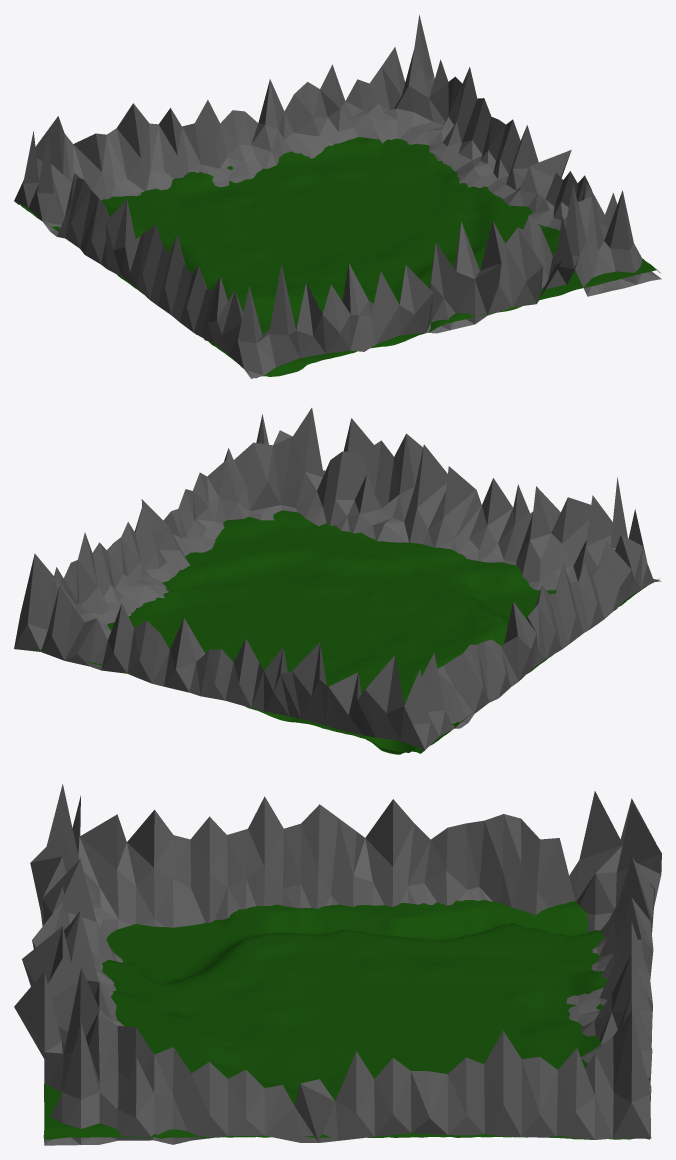
The model's file is camp_landscape_w_Mountains.glb.
3 views of the same model, one above another, from view 1: azimuth 30°, elevation 25°; view 2: azimuth 150°, elevation 25°; view 3: azimuth 270°, elevation 25° (orthographic). The views are drawn at different scales.
Visible parts, largest first — view 1: Plane.001, Plane; view 2: Plane.001, Plane; view 3: Plane.001, Plane.
Boxes of the visible parts, x1=… form: Plane.001: x1=14, y1=15, x2=661, y2=378; Plane: x1=14, y1=124, x2=660, y2=378; Plane.001: x1=14, y1=408, x2=661, y2=749; Plane: x1=30, y1=510, x2=658, y2=754; Plane.001: x1=14, y1=784, x2=661, y2=1145; Plane: x1=44, y1=900, x2=649, y2=1139.
Bounding box in the file's own units: 413 × 127 × 428.
